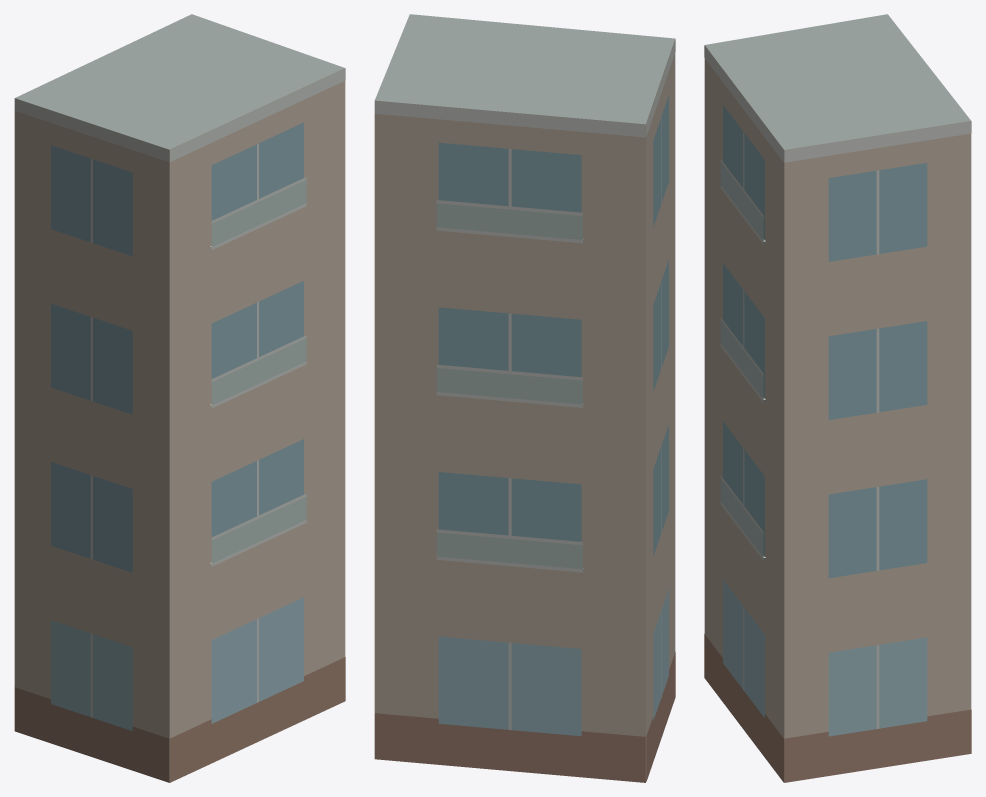
Rendered from survey-upis-32642165.glb.
3 views of the same model, side by side, from view 1: azimuth 30°, elevation 25°; view 2: azimuth 150°, elevation 25°; view 3: azimuth 270°, elevation 25° (orthographic). The views are drawn at different scales.
Visible parts, largest first — view 1: survey-upis-32642165.tmp; view 2: survey-upis-32642165.tmp; view 3: survey-upis-32642165.tmp.
Boxes of the visible parts, bbox=[...] form: survey-upis-32642165.tmp: bbox=[14, 14, 345, 782]; survey-upis-32642165.tmp: bbox=[374, 14, 675, 782]; survey-upis-32642165.tmp: bbox=[704, 14, 971, 782].
Bounding box in the file's own units: 5.63 × 12.2 × 4.67.
